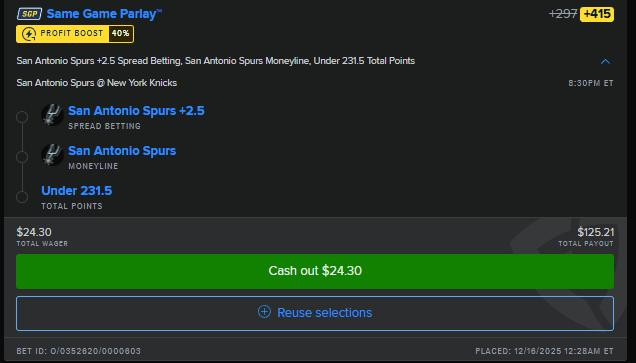game: (16, 77, 178, 91)
odds: (582, 7, 613, 20)
payout: (575, 223, 617, 240)
wager: (16, 225, 52, 239)
